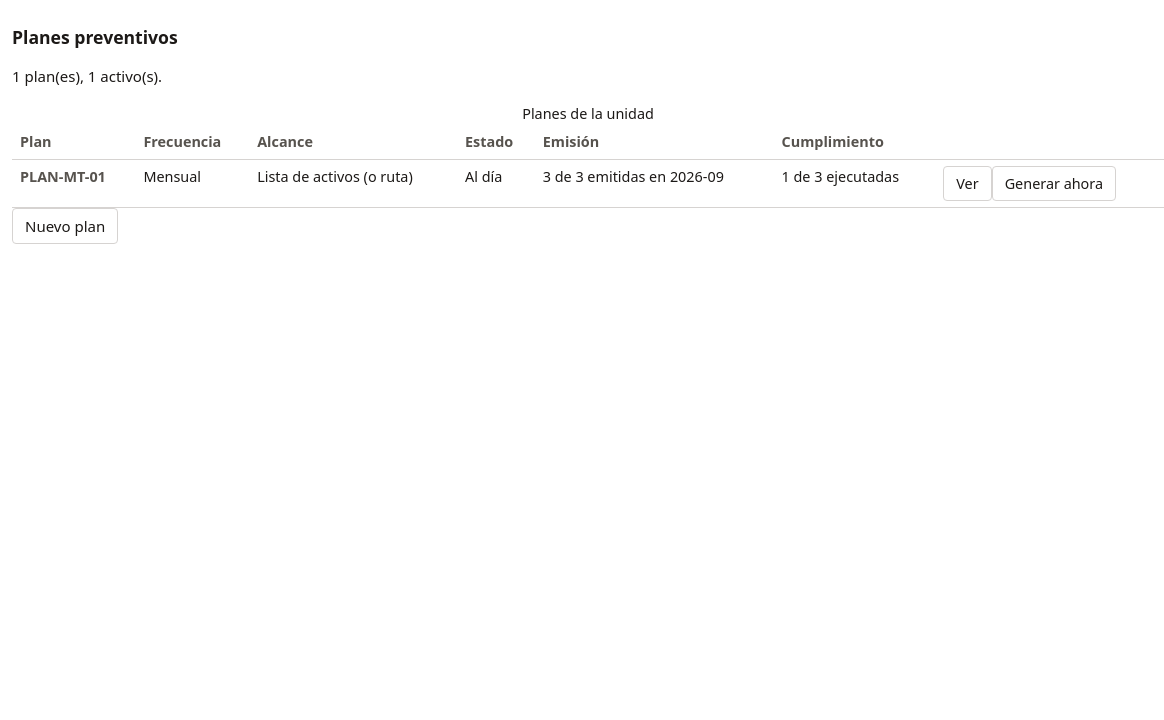
Test: el detalle › el historial muestra el motivo de lo que no se emitió
Click the button "Ver" at (967, 184), box [943,166,992,201]
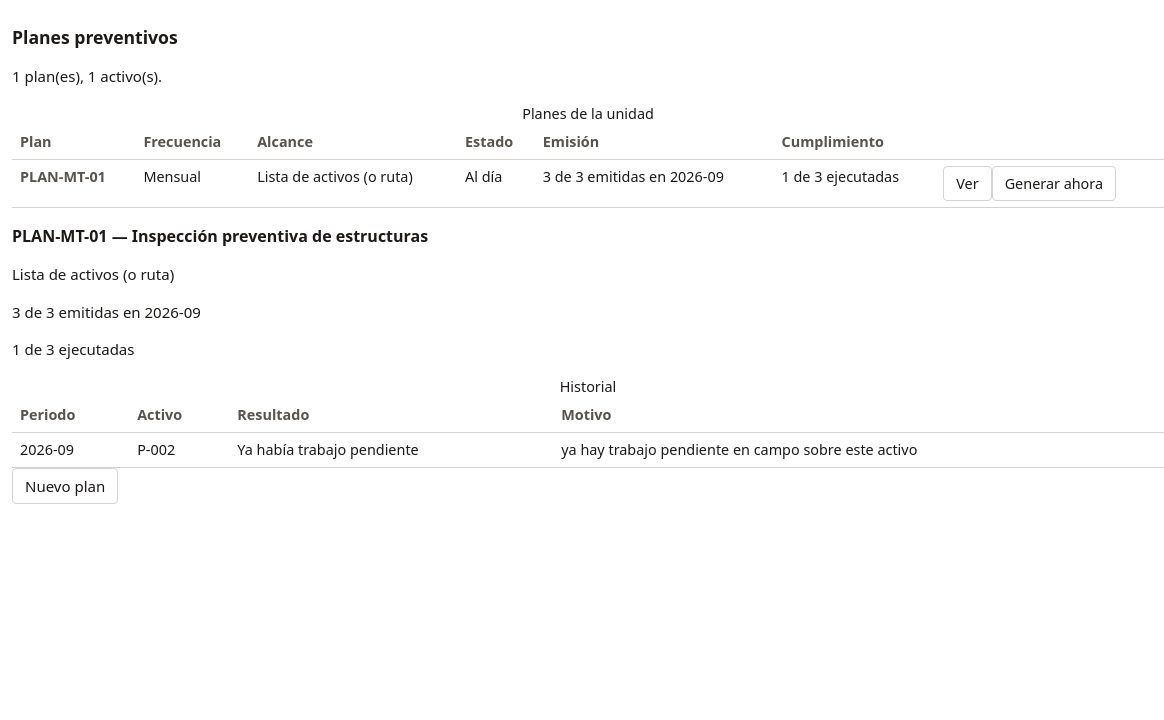
Expected: the text "Ya había trabajo pendiente" is shown, [229,432,553,468]
Expected: the text "ya hay trabajo pendiente en campo sobre este activo" is shown, [553,432,1163,468]
